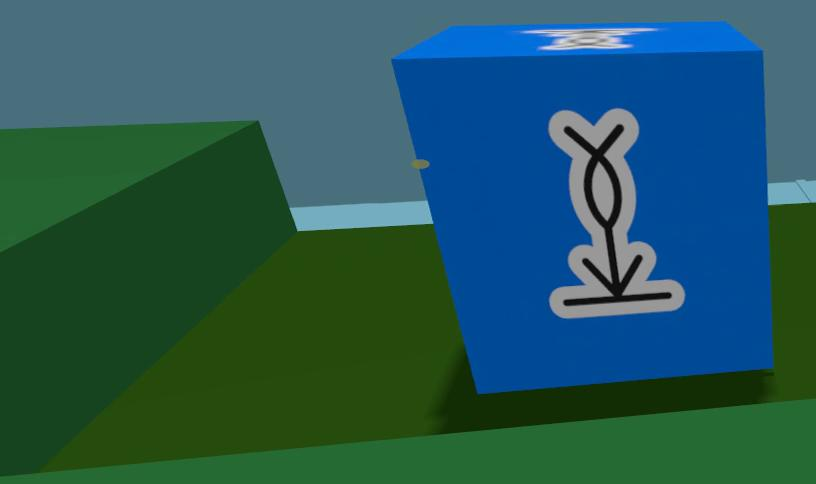KFS_REAL: (392, 22, 772, 392), (551, 109, 684, 318)
